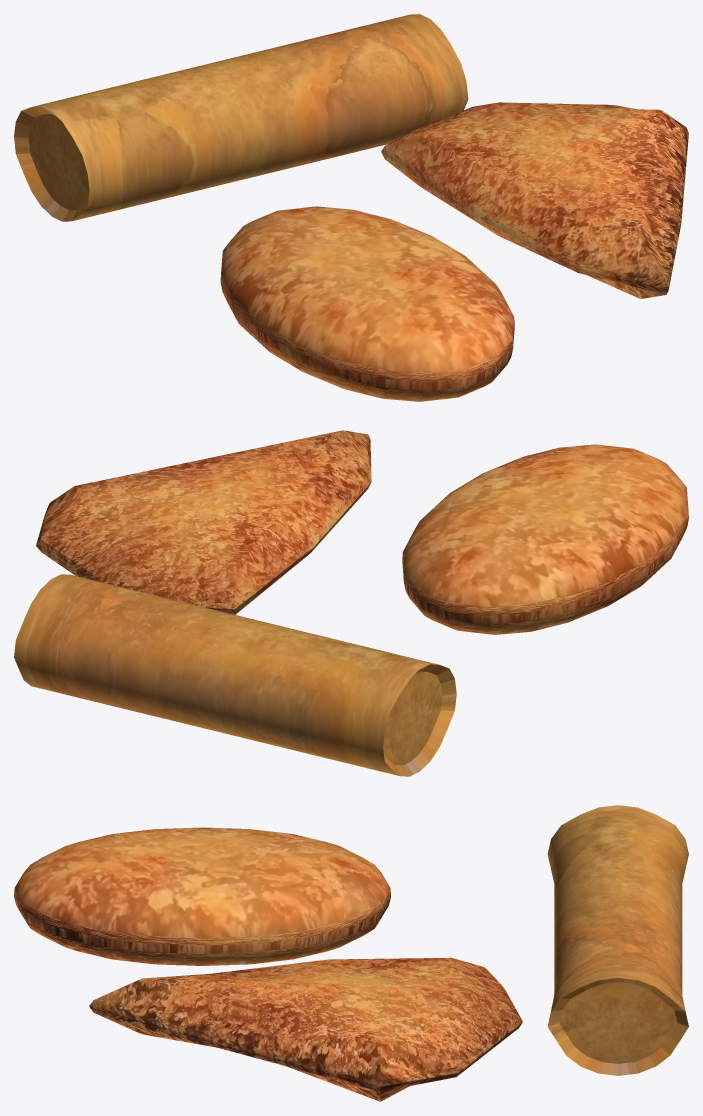
File: fly.fbx
The picture shows the model from 3 angles, top to bottom: view 1: azimuth 30°, elevation 25°; view 2: azimuth 150°, elevation 25°; view 3: azimuth 270°, elevation 25°; orthographic projection. The views are drawn at different scales.
Visible parts, largest first — view 1: pCylinder1, pSphere1, pCube1; view 2: pCylinder1, pSphere1, pCube1; view 3: pSphere1, pCube1, pCylinder1.
Boxes of the visible parts, <box> form: pCylinder1: <box>14,14,468,221</box>; pSphere1: <box>220,206,514,401</box>; pCube1: <box>381,102,688,298</box>; pCylinder1: <box>14,574,456,776</box>; pSphere1: <box>402,444,688,634</box>; pCube1: <box>36,430,371,614</box>; pSphere1: <box>14,827,390,965</box>; pCube1: <box>89,957,522,1101</box>; pCylinder1: <box>547,805,688,1075</box>.
Size of the model in its own units: 4.79 by 0.9152 by 5.71.
